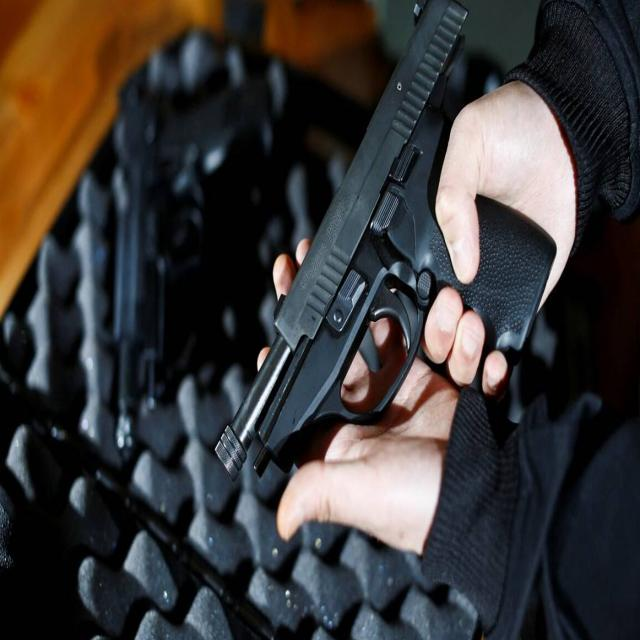Weapon: (216, 0, 556, 480)
